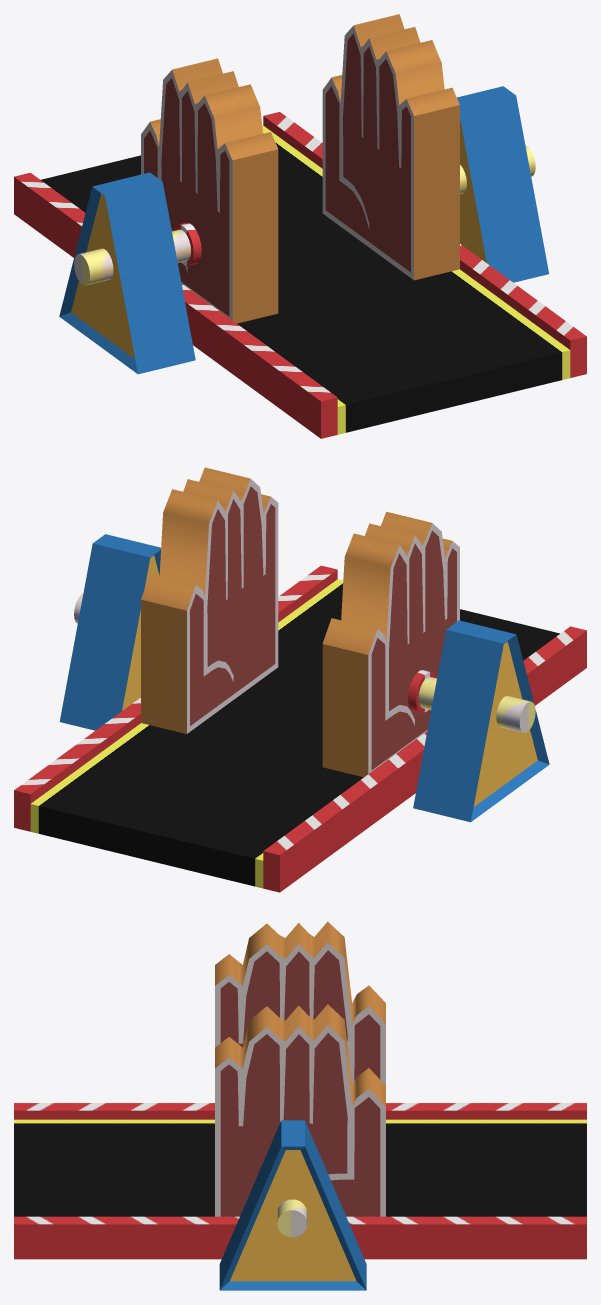
The model's file is Special track - Moving hands.fbx.
3 renders of one model, top to bottom at view 1: azimuth 30°, elevation 25°; view 2: azimuth 150°, elevation 25°; view 3: azimuth 270°, elevation 25°, orthographic. The views are drawn at different scales.
Parts seen in each view (by area): view 1: Track - Moving hands, HAND 2, HAND; view 2: Track - Moving hands, HAND 2, HAND; view 3: Track - Moving hands, HAND 2, HAND.
Part boxes in pixels (x1=…): Track - Moving hands: x1=14, y1=86, x2=586, y2=438; HAND 2: x1=322, y1=14, x2=535, y2=280; HAND: x1=74, y1=58, x2=278, y2=323; Track - Moving hands: x1=14, y1=534, x2=586, y2=892; HAND 2: x1=74, y1=467, x2=278, y2=733; HAND: x1=322, y1=511, x2=535, y2=777; Track - Moving hands: x1=14, y1=1103, x2=586, y2=1290; HAND 2: x1=215, y1=1004, x2=385, y2=1237; HAND: x1=215, y1=921, x2=385, y2=1085.
Size of the model in its own units: 83.79 by 43.41 by 100.
